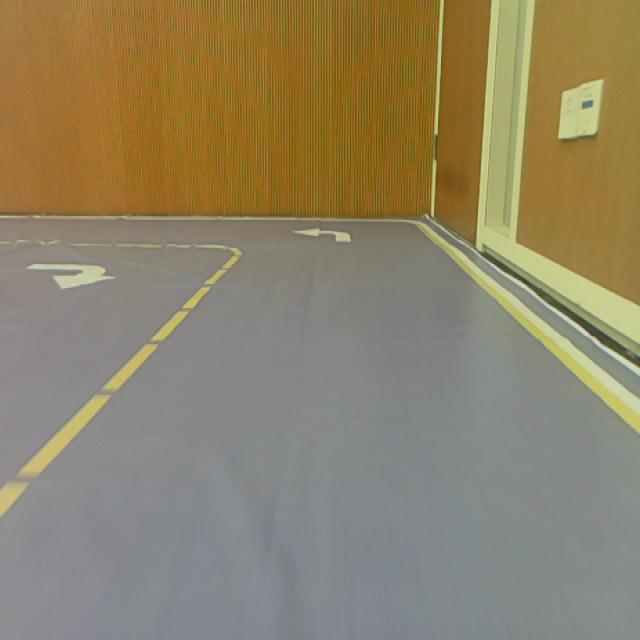left_lane: (0, 252, 244, 518)
right_lane: (416, 223, 640, 435)
